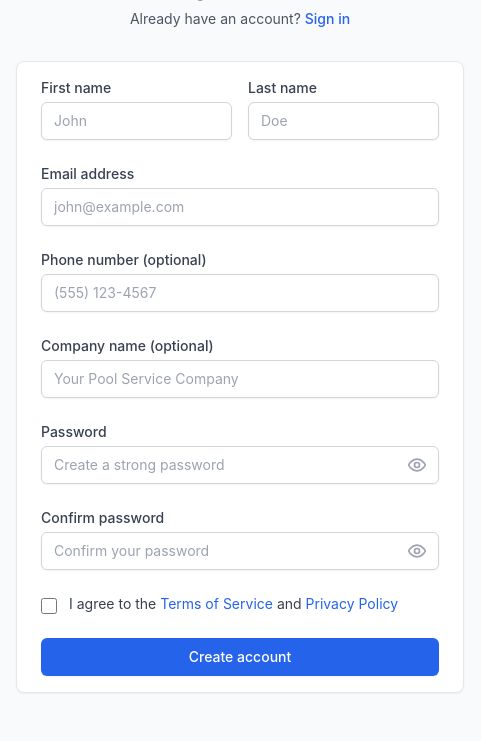
it: RegisterPage › Form Validation › should validate required fields
(page scrolled)
Click the button "Create account": (240, 657) left=41, top=638, right=439, bottom=676
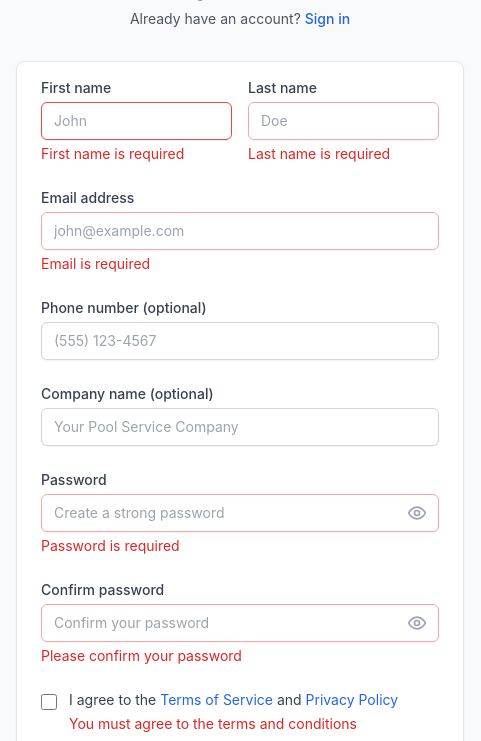
expect the text "First name is required" is shown: met, box left=41, top=145, right=184, bottom=162
expect the text "Last name is required" is shown: met, box left=248, top=145, right=390, bottom=162
expect the text "Email is required" is shown: met, box left=41, top=255, right=150, bottom=272
